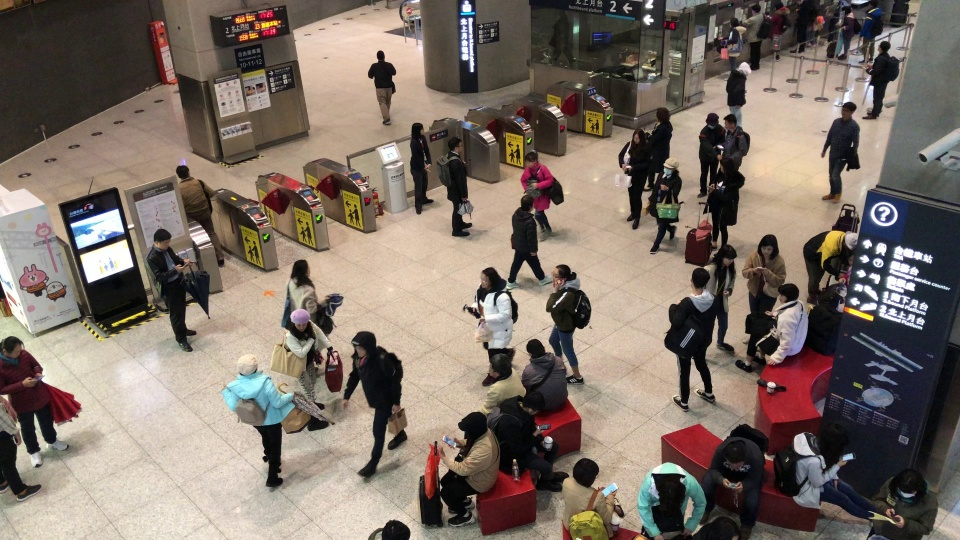person_head: (818, 422, 849, 464), (895, 468, 925, 499), (571, 457, 600, 487), (457, 411, 487, 439), (658, 480, 685, 509), (350, 330, 377, 357), (709, 517, 739, 540), (723, 441, 746, 470), (487, 352, 512, 378), (381, 519, 410, 540), (550, 264, 577, 286), (235, 352, 258, 376), (521, 391, 544, 415), (0, 336, 25, 358), (757, 234, 779, 259), (288, 308, 310, 331), (690, 267, 710, 292), (716, 243, 737, 266), (777, 282, 800, 302), (290, 258, 310, 279), (525, 337, 546, 357), (480, 266, 498, 288), (152, 229, 171, 249), (843, 230, 858, 251), (662, 157, 679, 175), (446, 136, 463, 153), (840, 101, 857, 118), (523, 149, 539, 166), (722, 113, 738, 130), (519, 194, 534, 212), (705, 112, 720, 128), (719, 157, 734, 173), (655, 107, 670, 122), (174, 165, 190, 179), (631, 128, 645, 143), (737, 61, 751, 76), (411, 122, 424, 138), (877, 40, 891, 53), (750, 3, 761, 14), (728, 17, 739, 27), (376, 49, 385, 61), (774, 0, 784, 10), (842, 5, 852, 15), (868, 0, 878, 9)
person_vbox: (772, 420, 875, 524), (339, 331, 408, 480), (220, 352, 295, 489), (0, 336, 69, 467), (487, 390, 569, 492), (701, 423, 769, 540), (667, 267, 718, 412), (439, 411, 500, 526), (734, 282, 809, 374), (144, 228, 197, 352), (282, 308, 333, 432), (468, 266, 518, 386), (545, 262, 592, 385), (636, 461, 707, 539), (865, 467, 939, 540), (175, 163, 225, 268), (562, 456, 625, 539), (741, 233, 786, 344), (503, 194, 552, 288), (701, 156, 745, 259), (0, 394, 41, 502), (802, 229, 858, 307), (284, 258, 333, 344), (820, 101, 860, 203), (435, 136, 472, 237), (704, 243, 737, 355), (521, 337, 568, 415), (646, 156, 682, 255), (617, 127, 651, 229), (519, 148, 554, 240), (860, 41, 900, 120), (478, 353, 526, 416), (643, 106, 673, 193), (696, 111, 726, 198), (409, 122, 434, 215), (740, 2, 772, 72), (367, 49, 396, 126), (717, 17, 747, 79), (725, 61, 752, 128), (721, 113, 751, 171), (858, 0, 883, 64), (766, 0, 791, 61), (788, 0, 815, 54), (837, 4, 861, 60), (825, 0, 843, 43)
